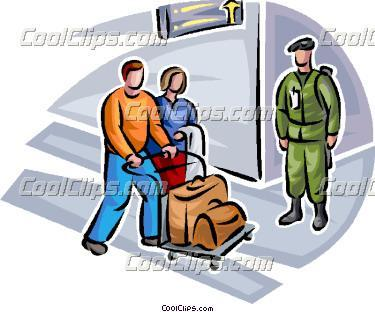person: (82, 55, 166, 252), (267, 28, 340, 231), (149, 62, 202, 181)
